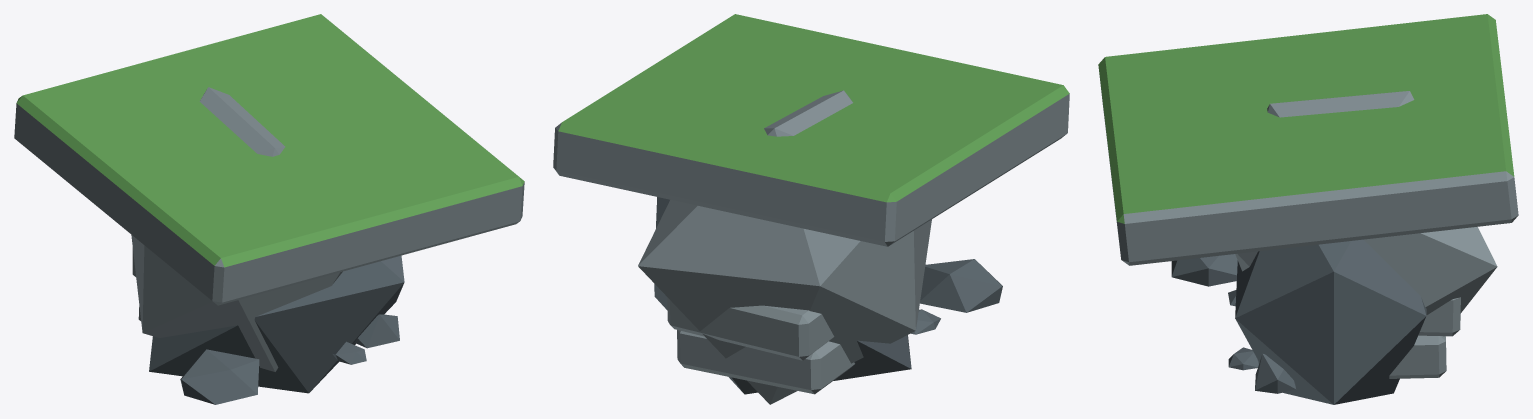
Rendered from cliff_overhang.glb.
3 renders of one model, left to right at view 1: azimuth 30°, elevation 25°; view 2: azimuth 150°, elevation 25°; view 3: azimuth 270°, elevation 25°, orthographic. The views are drawn at different scales.
Visible parts, largest first — view 1: cliff_overhang.001; view 2: cliff_overhang.001; view 3: cliff_overhang.001.
Boxes of the visible parts, x1,y1,x2,y2 form: cliff_overhang.001: (14, 14, 524, 404); cliff_overhang.001: (553, 14, 1069, 404); cliff_overhang.001: (1098, 14, 1518, 404).
Size of the model in its own units: 3.36 by 2.6 by 3.48.
